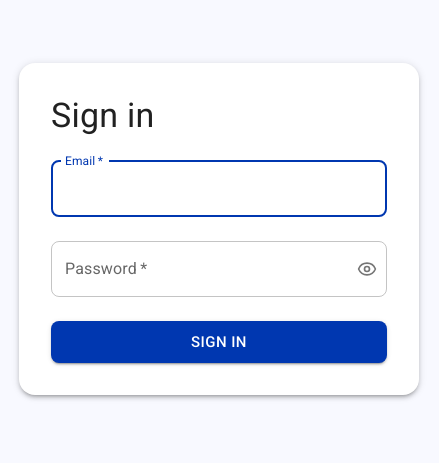
Login › joins every message the API sent
The image size is (439, 463).
Type "person@example.com" into the field labelled "Email *" at (219, 189), box x1=51 y1=161 x2=387 y2=217
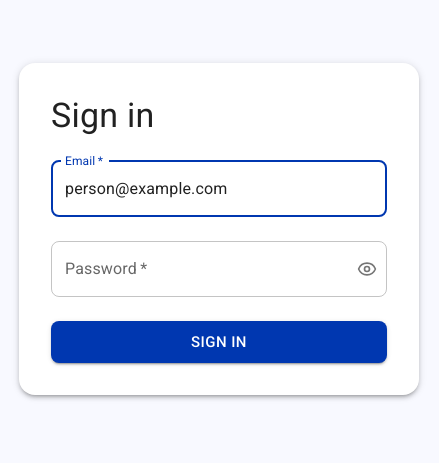
Type "secret123" into the password field labelled "Password *" at (196, 269), box x1=51 y1=241 x2=341 y2=297
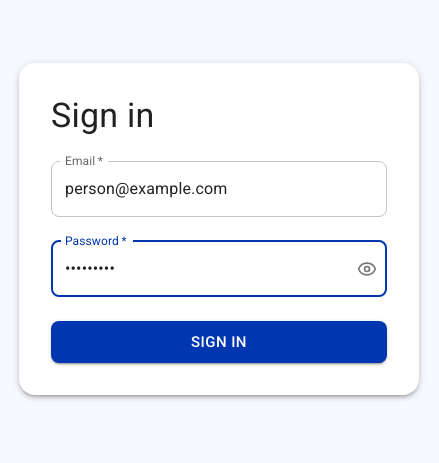
Click the button "Sign in" at (219, 342), box x1=51 y1=321 x2=387 y2=363
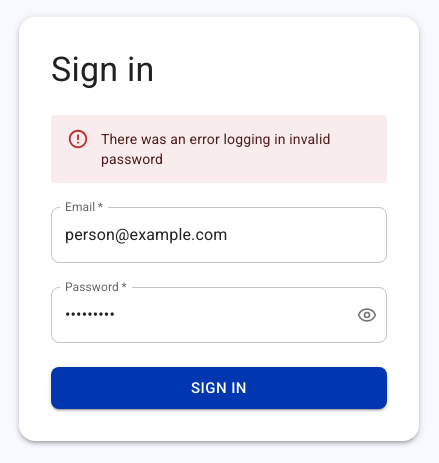
Expected: the message reads "There was an error logging in invalid password", x1=101 y1=131 x2=330 y2=167
